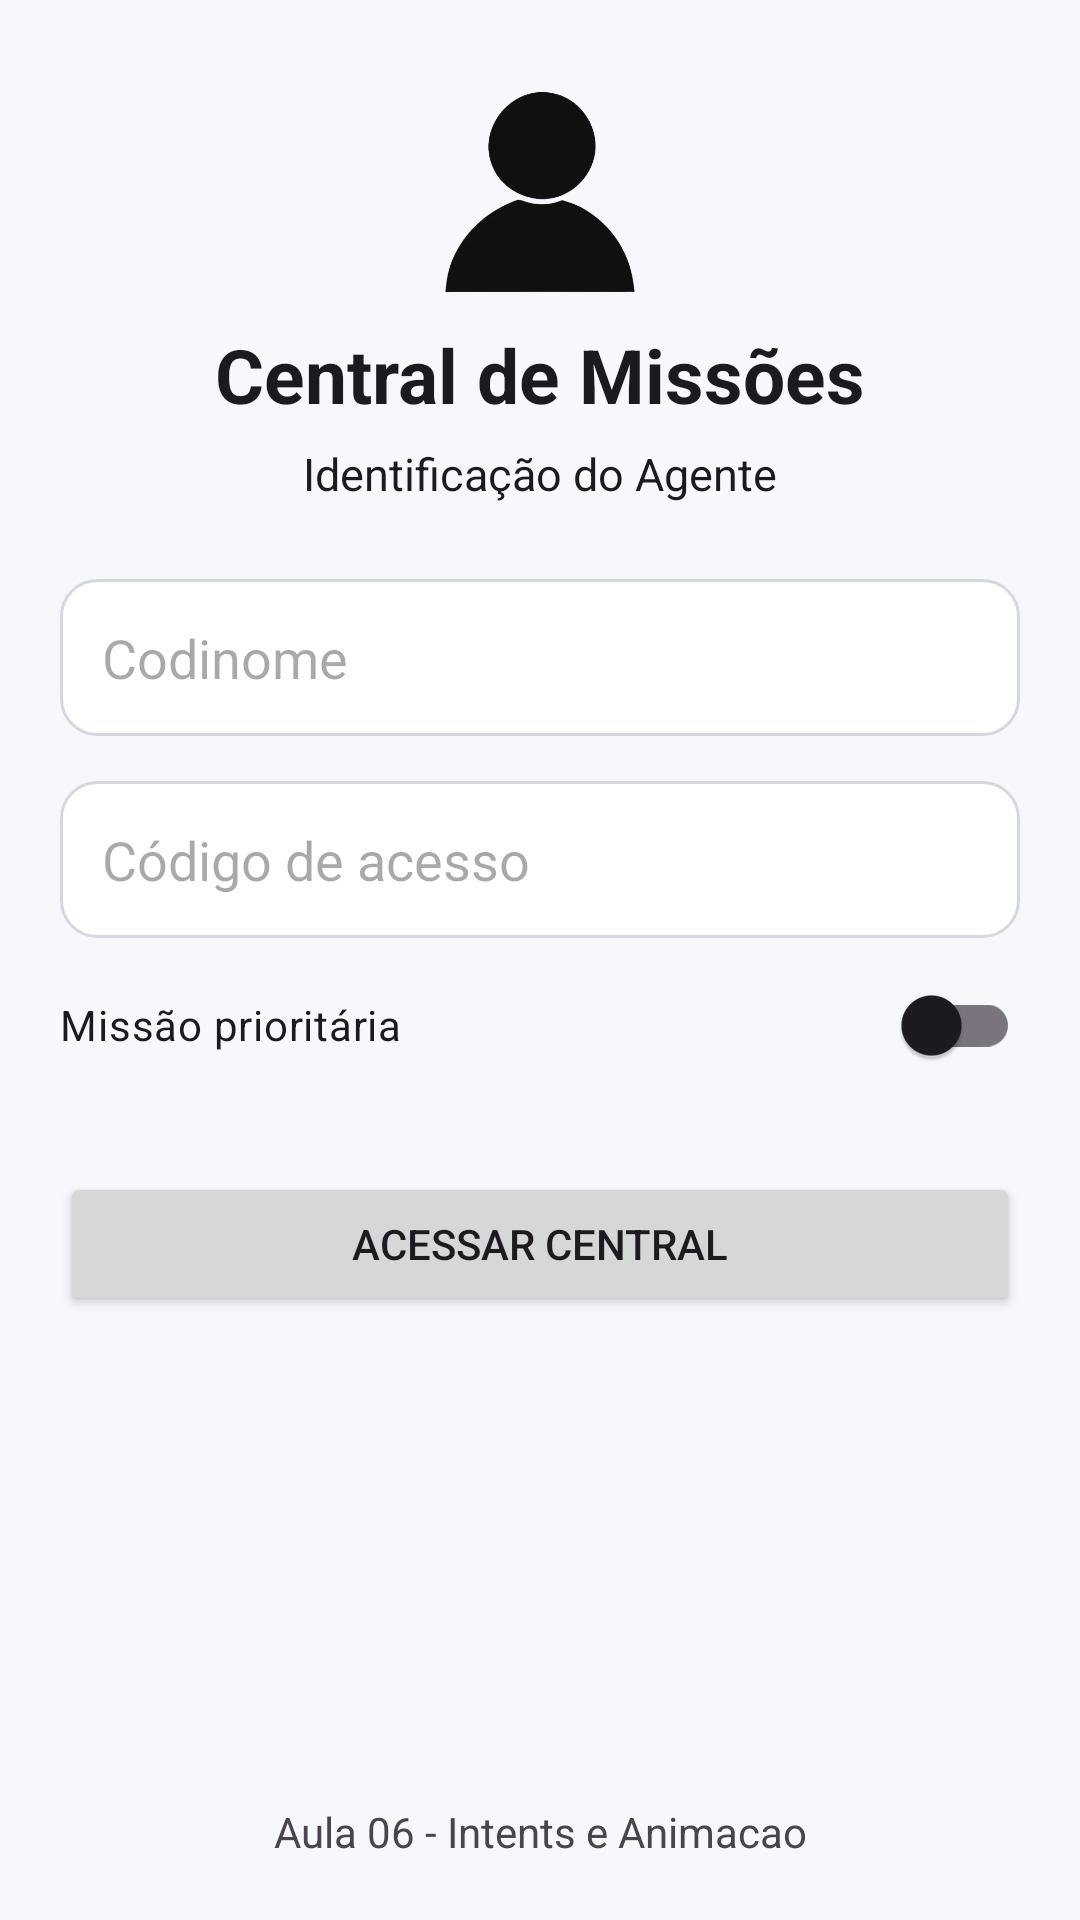

Named icons in this screenshot (1080 x 1920) and their centers, point (x, y):
Ícone de agente: point (540, 192)
